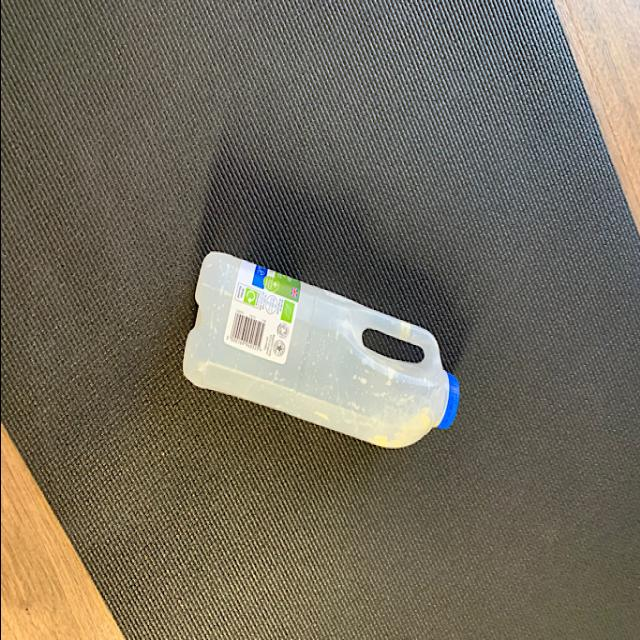HDPEM: (181, 247, 461, 452)
